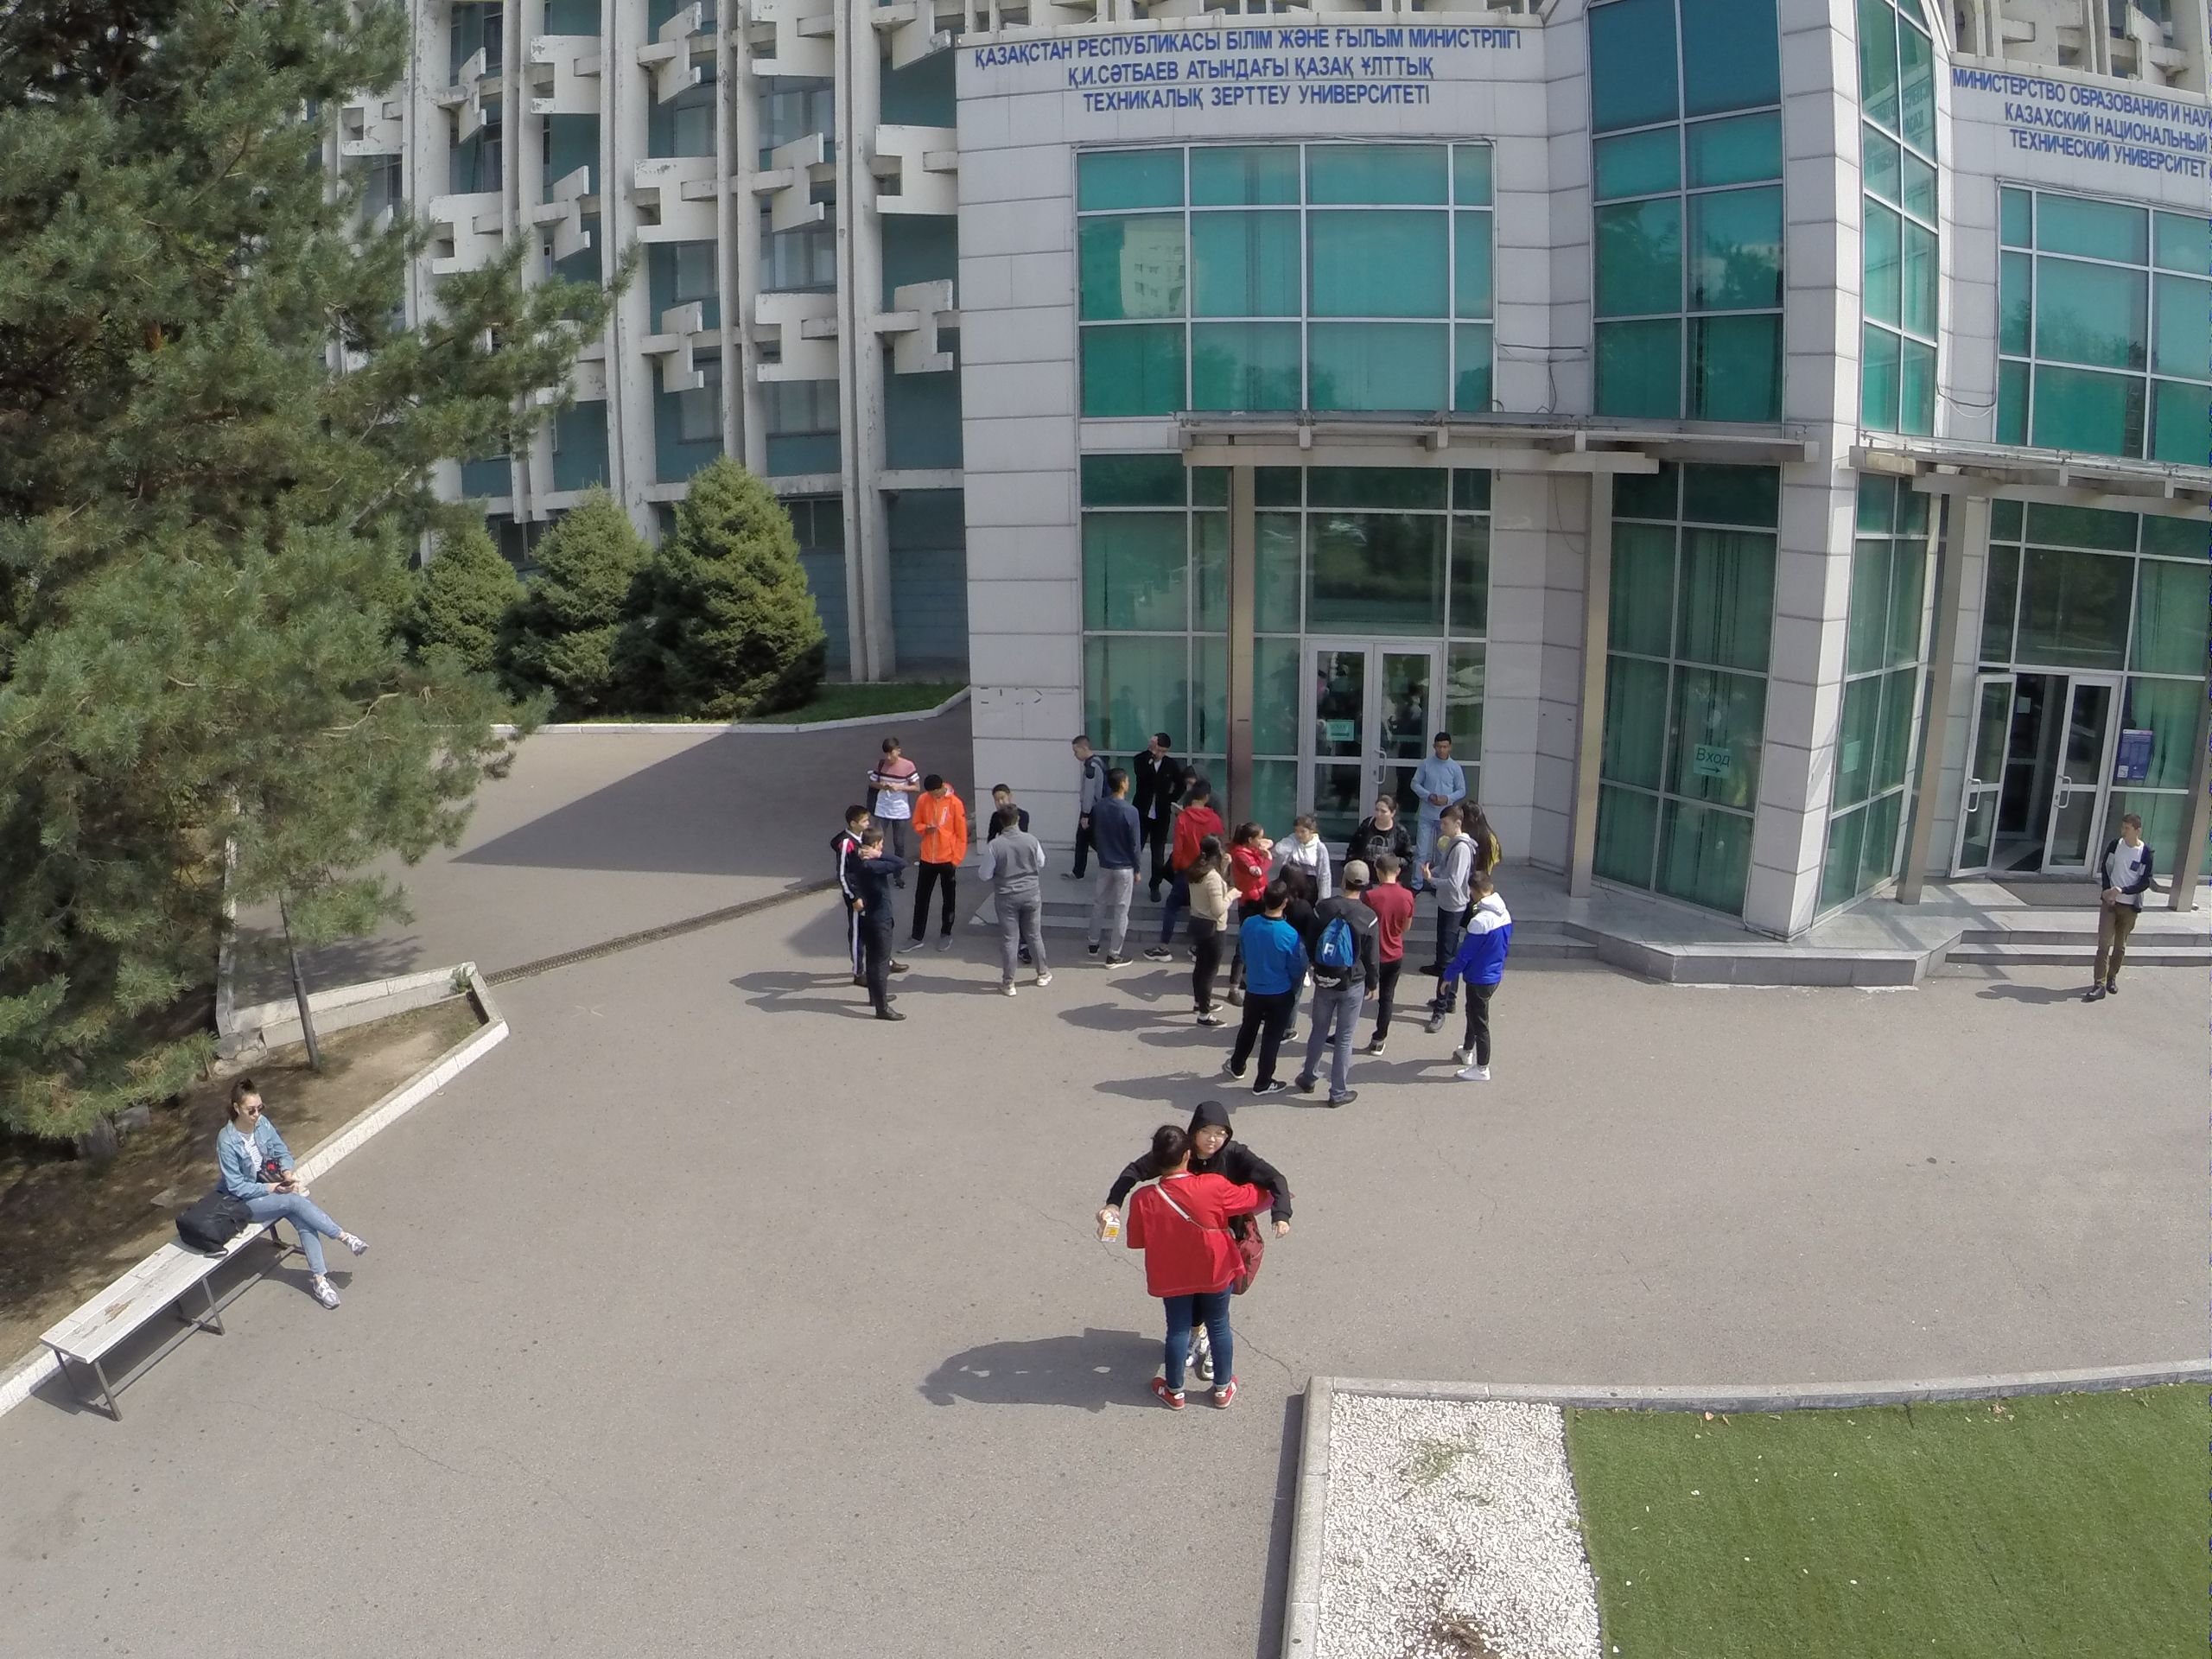person: (1114, 1136, 1249, 1411), (213, 1071, 365, 1313), (1281, 864, 1383, 1106), (1174, 1092, 1295, 1221), (1220, 893, 1297, 1090), (2074, 812, 2153, 1008), (1443, 869, 1510, 1089), (1349, 855, 1414, 1055), (990, 807, 1050, 1002), (1086, 767, 1140, 972), (910, 765, 961, 959), (850, 828, 900, 1020), (1183, 828, 1227, 1033), (1418, 730, 1465, 850), (1061, 734, 1099, 879), (1137, 728, 1167, 904), (1282, 810, 1330, 903), (1220, 817, 1273, 890), (831, 800, 865, 911), (1358, 789, 1409, 862), (874, 737, 913, 821), (1182, 778, 1223, 846)
